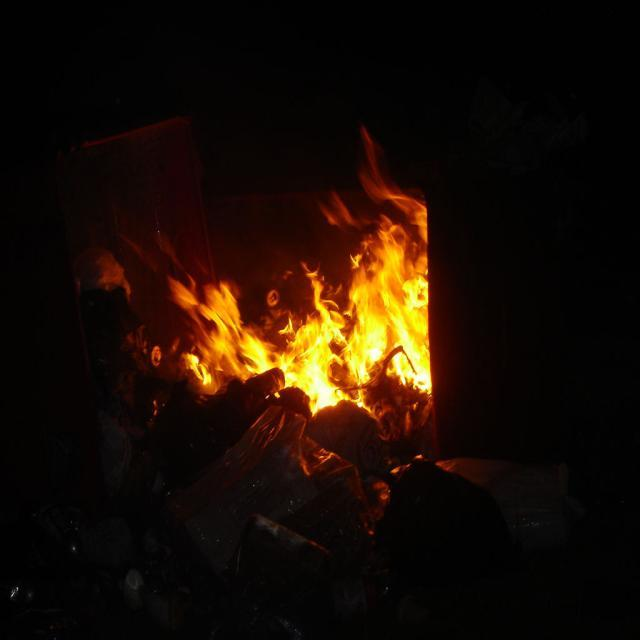Fire: (365, 250, 433, 383), (262, 312, 340, 411), (189, 296, 245, 386)
